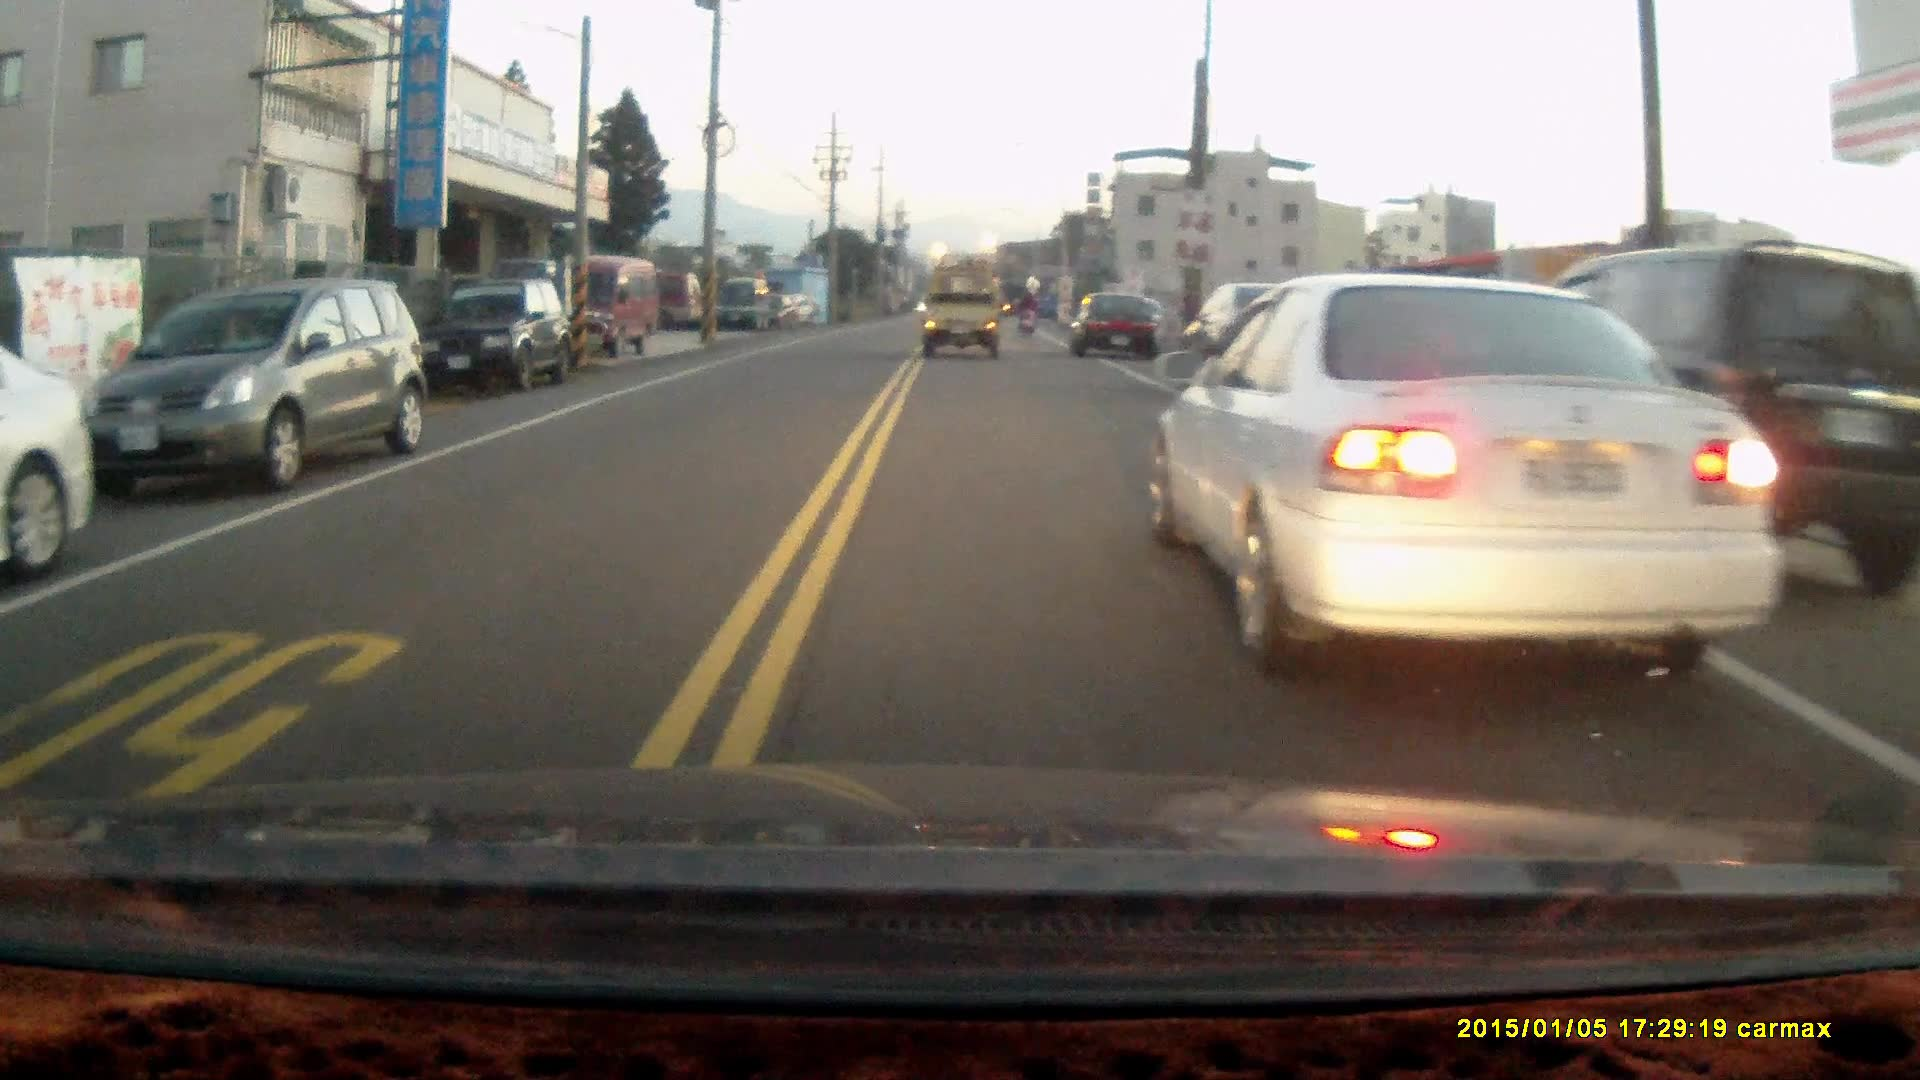rider: (1013, 286, 1040, 334)
vehicle: (1142, 270, 1787, 668), (1483, 247, 1918, 607), (81, 275, 428, 492), (1, 306, 94, 573), (440, 274, 572, 396), (553, 256, 670, 356), (1070, 294, 1166, 364), (931, 270, 1005, 358), (716, 277, 777, 329)
